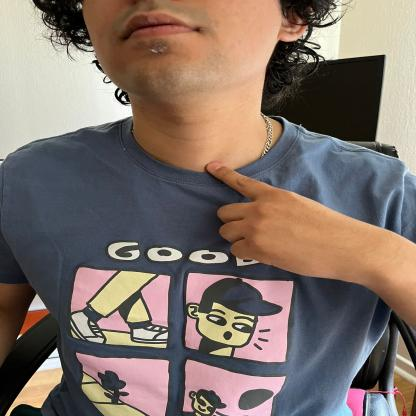Q: (192, 136, 383, 296)
